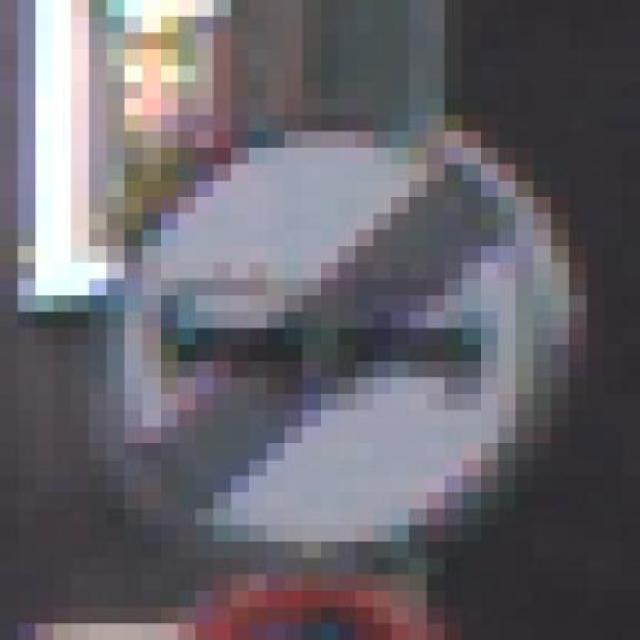No_Over_Taking: (53, 66, 622, 574)
